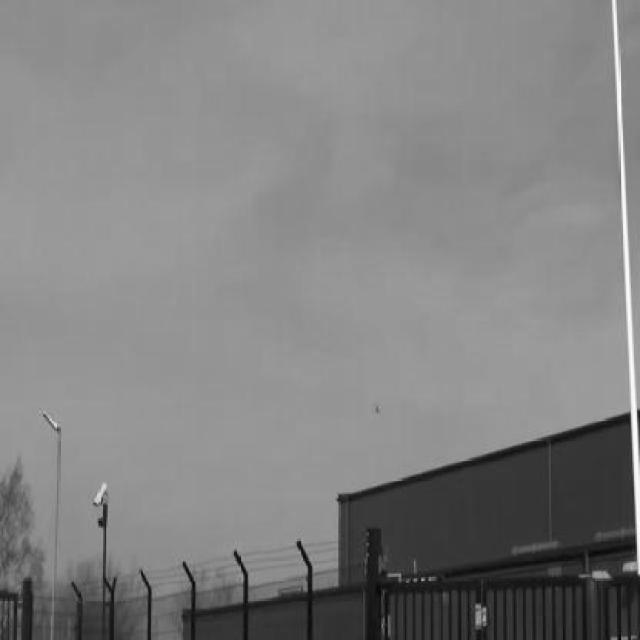helikopter: (373, 400, 384, 417)
